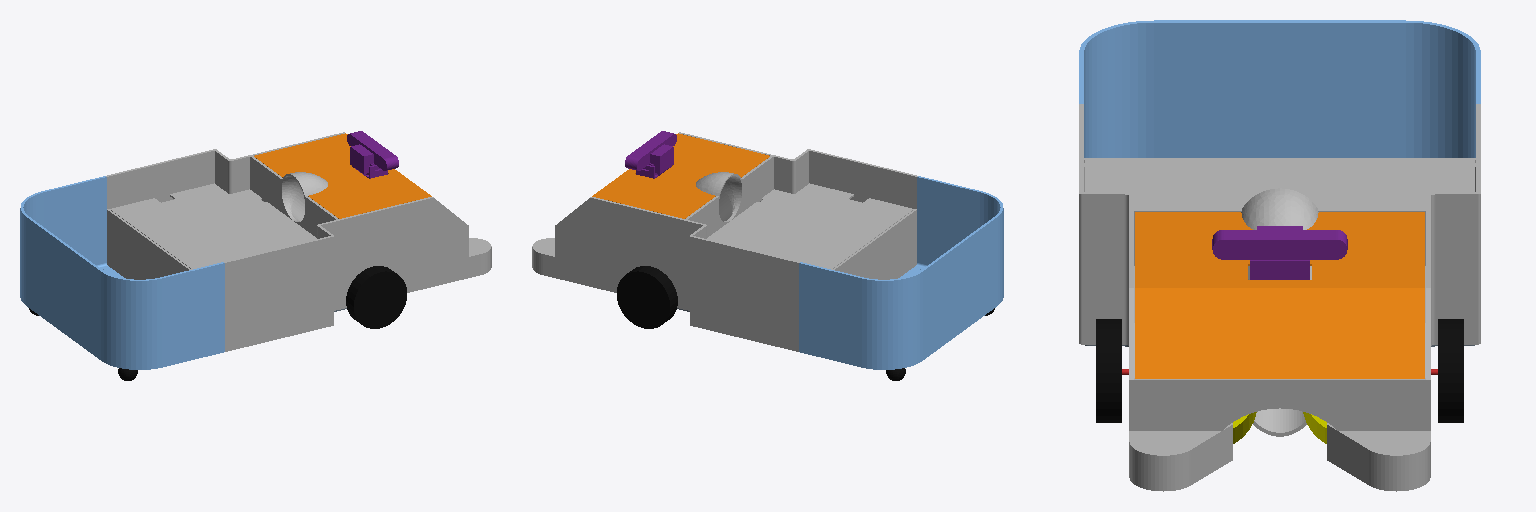
URDF robot description (tennis_bot):
<?xml version="1.0"?>
<!-- 新車體 v2 (A 同學 2026-10-25 CAD)。這個檔案由 experiments/cad_v2_to_urdf.py 從
     experiments/tennis_bot_v2_template.urdf 產生，不要直接改 tennis_bot_v2.urdf。
     base_link = 兩驅動輪軸中點正下方的地面，x 前 / y 左 / z 上。 -->
<robot name="tennis_bot">

  <link name="base_link"/>

  <joint name="base_to_chassis" type="fixed">
    <parent link="base_link"/>
    <child link="chassis"/>
    <origin xyz="0 0 0" rpy="0 0 0"/>
  </joint>

  <!-- 車體：CAD 每個零件一個網格 (公尺、base_link 座標)。碰撞只給球可能碰到的零件；質量性質是全部零件合計 -->
  <link name="chassis">
    <visual name="trunk_v2_01">
      <geometry><mesh filename="package://tennis_bot/urdf/meshes/v2/trunk_v2_01.stl"/></geometry>
      <material name="m_trunk_v2_01"><color rgba="0.55 0.75 0.95 1"/></material>
    </visual>
    <visual name="trunk_v2_02">
      <geometry><mesh filename="package://tennis_bot/urdf/meshes/v2/trunk_v2_02.stl"/></geometry>
      <material name="m_trunk_v2_02"><color rgba="0.55 0.75 0.95 1"/></material>
    </visual>
    <visual name="trunk_v2_03">
      <geometry><mesh filename="package://tennis_bot/urdf/meshes/v2/trunk_v2_03.stl"/></geometry>
      <material name="m_trunk_v2_03"><color rgba="0.75 0.75 0.75 1"/></material>
    </visual>
    <visual name="trunk_v2_05">
      <geometry><mesh filename="package://tennis_bot/urdf/meshes/v2/trunk_v2_05.stl"/></geometry>
      <material name="m_trunk_v2_05"><color rgba="0.75 0.75 0.75 1"/></material>
    </visual>
    <visual name="trunk_v2_part6">
      <geometry><mesh filename="package://tennis_bot/urdf/meshes/v2/trunk_v2_part6.stl"/></geometry>
      <material name="m_trunk_v2_part6"><color rgba="0.75 0.75 0.75 1"/></material>
    </visual>
    <visual name="trunk_v2_part7">
      <geometry><mesh filename="package://tennis_bot/urdf/meshes/v2/trunk_v2_part7.stl"/></geometry>
      <material name="m_trunk_v2_part7"><color rgba="0.75 0.75 0.75 1"/></material>
    </visual>
    <visual name="trunk_v2_part8">
      <geometry><mesh filename="package://tennis_bot/urdf/meshes/v2/trunk_v2_part8.stl"/></geometry>
      <material name="m_trunk_v2_part8"><color rgba="0.75 0.75 0.75 1"/></material>
    </visual>
    <visual name="trunk_v2_part9">
      <geometry><mesh filename="package://tennis_bot/urdf/meshes/v2/trunk_v2_part9.stl"/></geometry>
      <material name="m_trunk_v2_part9"><color rgba="0.75 0.75 0.75 1"/></material>
    </visual>
    <visual name="trunk_v2_battery">
      <geometry><mesh filename="package://tennis_bot/urdf/meshes/v2/trunk_v2_battery.stl"/></geometry>
      <material name="m_trunk_v2_battery"><color rgba="0.2 0.6 0.2 1"/></material>
    </visual>
    <visual name="trunk_v2_camera">
      <geometry><mesh filename="package://tennis_bot/urdf/meshes/v2/trunk_v2_camera.stl"/></geometry>
      <material name="m_trunk_v2_camera"><color rgba="0.5 0.2 0.6 1"/></material>
    </visual>
    <visual name="trunk_v2_motor1">
      <geometry><mesh filename="package://tennis_bot/urdf/meshes/v2/trunk_v2_motor1.stl"/></geometry>
      <material name="m_trunk_v2_motor1"><color rgba="0.8 0.2 0.2 1"/></material>
    </visual>
    <visual name="trunk_v2_motor2">
      <geometry><mesh filename="package://tennis_bot/urdf/meshes/v2/trunk_v2_motor2.stl"/></geometry>
      <material name="m_trunk_v2_motor2"><color rgba="0.8 0.2 0.2 1"/></material>
    </visual>
    <visual name="trunk_v2_jetsonnano">
      <geometry><mesh filename="package://tennis_bot/urdf/meshes/v2/trunk_v2_jetsonnano.stl"/></geometry>
      <material name="m_trunk_v2_jetsonnano"><color rgba="0.2 0.6 0.2 1"/></material>
    </visual>
    <visual name="trunk_v2_STM32">
      <geometry><mesh filename="package://tennis_bot/urdf/meshes/v2/trunk_v2_STM32.stl"/></geometry>
      <material name="m_trunk_v2_STM32"><color rgba="0.2 0.6 0.2 1"/></material>
    </visual>
    <visual name="trunk_v2_motor3">
      <geometry><mesh filename="package://tennis_bot/urdf/meshes/v2/trunk_v2_motor3.stl"/></geometry>
      <material name="m_trunk_v2_motor3"><color rgba="0.8 0.2 0.2 1"/></material>
    </visual>
    <visual name="trunk_v2_motor4">
      <geometry><mesh filename="package://tennis_bot/urdf/meshes/v2/trunk_v2_motor4.stl"/></geometry>
      <material name="m_trunk_v2_motor4"><color rgba="0.8 0.2 0.2 1"/></material>
    </visual>
    <visual name="trunk_v2_camerastand">
      <geometry><mesh filename="package://tennis_bot/urdf/meshes/v2/trunk_v2_camerastand.stl"/></geometry>
      <material name="m_trunk_v2_camerastand"><color rgba="0.5 0.2 0.6 1"/></material>
    </visual>
    <visual name="trunk_v2_part10">
      <geometry><mesh filename="package://tennis_bot/urdf/meshes/v2/trunk_v2_part10.stl"/></geometry>
      <material name="m_trunk_v2_part10"><color rgba="0.75 0.75 0.75 1"/></material>
    </visual>
    <visual name="trunk_v2_part11">
      <geometry><mesh filename="package://tennis_bot/urdf/meshes/v2/trunk_v2_part11.stl"/></geometry>
      <material name="m_trunk_v2_part11"><color rgba="0.75 0.75 0.75 1"/></material>
    </visual>
    <visual name="trunk_v2_sheetmetal">
      <geometry><mesh filename="package://tennis_bot/urdf/meshes/v2/trunk_v2_sheetmetal.stl"/></geometry>
      <material name="m_trunk_v2_sheetmetal"><color rgba="0.45 0.5 0.55 1"/></material>
    </visual>
    <visual name="trunk_v2_part12">
      <geometry><mesh filename="package://tennis_bot/urdf/meshes/v2/trunk_v2_part12.stl"/></geometry>
      <material name="m_trunk_v2_part12"><color rgba="0.95 0.55 0.1 1"/></material>
    </visual>
    <collision name="trunk_v2_01_c">
      <geometry><mesh filename="package://tennis_bot/urdf/meshes/v2/trunk_v2_01.stl"/></geometry>
    </collision>
    <collision name="trunk_v2_02_c">
      <geometry><mesh filename="package://tennis_bot/urdf/meshes/v2/trunk_v2_02.stl"/></geometry>
    </collision>
    <collision name="trunk_v2_03_c">
      <geometry><mesh filename="package://tennis_bot/urdf/meshes/v2/trunk_v2_03.stl"/></geometry>
    </collision>
    <collision name="trunk_v2_05_c">
      <geometry><mesh filename="package://tennis_bot/urdf/meshes/v2/trunk_v2_05.stl"/></geometry>
    </collision>
    <collision name="trunk_v2_part6_c">
      <geometry><mesh filename="package://tennis_bot/urdf/meshes/v2/trunk_v2_part6.stl"/></geometry>
    </collision>
    <collision name="trunk_v2_part7_c">
      <geometry><mesh filename="package://tennis_bot/urdf/meshes/v2/trunk_v2_part7.stl"/></geometry>
    </collision>
    <collision name="trunk_v2_part8_c">
      <geometry><mesh filename="package://tennis_bot/urdf/meshes/v2/trunk_v2_part8.stl"/></geometry>
    </collision>
    <collision name="trunk_v2_part9_c">
      <geometry><mesh filename="package://tennis_bot/urdf/meshes/v2/trunk_v2_part9.stl"/></geometry>
    </collision>
    <collision name="trunk_v2_camera_c">
      <geometry><mesh filename="package://tennis_bot/urdf/meshes/v2/trunk_v2_camera.stl"/></geometry>
    </collision>
    <collision name="trunk_v2_motor3_c">
      <geometry><mesh filename="package://tennis_bot/urdf/meshes/v2/trunk_v2_motor3.stl"/></geometry>
    </collision>
    <collision name="trunk_v2_motor4_c">
      <geometry><mesh filename="package://tennis_bot/urdf/meshes/v2/trunk_v2_motor4.stl"/></geometry>
    </collision>
    <collision name="trunk_v2_camerastand_c">
      <geometry><mesh filename="package://tennis_bot/urdf/meshes/v2/trunk_v2_camerastand.stl"/></geometry>
    </collision>
    <collision name="trunk_v2_part10_c">
      <geometry><mesh filename="package://tennis_bot/urdf/meshes/v2/trunk_v2_part10.stl"/></geometry>
    </collision>
    <collision name="trunk_v2_part11_c">
      <geometry><mesh filename="package://tennis_bot/urdf/meshes/v2/trunk_v2_part11.stl"/></geometry>
    </collision>
    <collision name="trunk_v2_sheetmetal_c">
      <geometry><mesh filename="package://tennis_bot/urdf/meshes/v2/trunk_v2_sheetmetal.stl"/></geometry>
    </collision>
    <collision name="trunk_v2_part12_c">
      <geometry><mesh filename="package://tennis_bot/urdf/meshes/v2/trunk_v2_part12.stl"/></geometry>
    </collision>
    <inertial>
      <origin xyz="-0.16125 -0.00182 0.07177" rpy="0 0 0"/>
      <mass value="7.5045"/>
      <inertia ixx="0.109317" ixy="-0.000638" ixz="-0.021419" iyy="0.294207" iyz="0.000217" izz="0.367185"/>
    </inertial>
  </link>

  <link name="left_drive_wheel">
    <visual><geometry><cylinder radius="0.052" length="0.026"/></geometry>
      <material name="tyre"><color rgba="0.1 0.1 0.1 1"/></material></visual>
    <collision><geometry><cylinder radius="0.052" length="0.026"/></geometry></collision>
    <inertial>
      <origin xyz="0.00000 0.00000 0.00000" rpy="0 0 0"/>
      <mass value="0.2000"/>
      <inertia ixx="0.000146" ixy="0.000000" ixz="0.000000" iyy="0.000146" iyz="0.000000" izz="0.000270"/>
    </inertial>
  </link>
  <joint name="left_wheel_joint" type="continuous">
    <parent link="chassis"/><child link="left_drive_wheel"/>
    <origin xyz="0 0.1700 0.052" rpy="-1.5708 0 0"/>
    <axis xyz="0 0 1"/>
  </joint>
  <gazebo reference="left_drive_wheel"><mu1>200.0</mu1><mu2>200.0</mu2><material>Gazebo/Black</material></gazebo>

  <link name="right_drive_wheel">
    <visual><geometry><cylinder radius="0.052" length="0.026"/></geometry>
      <material name="tyre"><color rgba="0.1 0.1 0.1 1"/></material></visual>
    <collision><geometry><cylinder radius="0.052" length="0.026"/></geometry></collision>
    <inertial>
      <origin xyz="0.00000 0.00000 0.00000" rpy="0 0 0"/>
      <mass value="0.2000"/>
      <inertia ixx="0.000146" ixy="0.000000" ixz="0.000000" iyy="0.000146" iyz="0.000000" izz="0.000270"/>
    </inertial>
  </link>
  <joint name="right_wheel_joint" type="continuous">
    <parent link="chassis"/><child link="right_drive_wheel"/>
    <origin xyz="0 -0.1700 0.052" rpy="-1.5708 0 0"/>
    <axis xyz="0 0 1"/>
  </joint>
  <gazebo reference="right_drive_wheel"><mu1>200.0</mu1><mu2>200.0</mu2><material>Gazebo/Black</material></gazebo>

  <link name="caster_0">
    <visual><geometry><sphere radius="0.0166"/></geometry><material name="caster"><color rgba="0.1 0.1 0.1 1"/></material></visual>
    <collision><geometry><sphere radius="0.0166"/></geometry>
      <surface><friction><ode><mu>0.0</mu><mu2>0.0</mu2></ode></friction></surface></collision>
    <inertial>
      <origin xyz="0.00000 0.00000 0.00000" rpy="0 0 0"/>
      <mass value="0.0300"/>
      <inertia ixx="0.000002" ixy="0.000000" ixz="0.000000" iyy="0.000002" iyz="0.000000" izz="0.000002"/>
    </inertial>
  </link>
  <joint name="caster_0_joint" type="fixed">
    <parent link="chassis"/><child link="caster_0"/>
    <origin xyz="-0.47 0.15 0.0166" rpy="0 0 0"/>
  </joint>
  <!-- 萬向輪 = 無摩擦球 (會自己轉向的輪子阻力很小)。摩擦要寫在 gazebo reference：URDF <collision> 裡的
       <surface> Gazebo 不會讀 (舊車 simple_bot.urdf 也是這樣寫，實際摩擦是預設值)。新車重心在輪軸後 16 cm，
       萬向輪撐 ~1/3 重量，有摩擦的話原地轉不動 (2026-10-26 實測：指令 86° 只轉 0°)。 -->
  <gazebo reference="caster_0"><mu1>0.0</mu1><mu2>0.0</mu2></gazebo>

  <link name="caster_1">
    <visual><geometry><sphere radius="0.0166"/></geometry><material name="caster"><color rgba="0.1 0.1 0.1 1"/></material></visual>
    <collision><geometry><sphere radius="0.0166"/></geometry>
      <surface><friction><ode><mu>0.0</mu><mu2>0.0</mu2></ode></friction></surface></collision>
    <inertial>
      <origin xyz="0.00000 0.00000 0.00000" rpy="0 0 0"/>
      <mass value="0.0300"/>
      <inertia ixx="0.000002" ixy="0.000000" ixz="0.000000" iyy="0.000002" iyz="0.000000" izz="0.000002"/>
    </inertial>
  </link>
  <joint name="caster_1_joint" type="fixed">
    <parent link="chassis"/><child link="caster_1"/>
    <origin xyz="-0.47 -0.15 0.0166" rpy="0 0 0"/>
  </joint>
  <!-- 萬向輪 = 無摩擦球 (會自己轉向的輪子阻力很小)。摩擦要寫在 gazebo reference：URDF <collision> 裡的
       <surface> Gazebo 不會讀 (舊車 simple_bot.urdf 也是這樣寫，實際摩擦是預設值)。新車重心在輪軸後 16 cm，
       萬向輪撐 ~1/3 重量，有摩擦的話原地轉不動 (2026-10-26 實測：指令 86° 只轉 0°)。 -->
  <gazebo reference="caster_1"><mu1>0.0</mu1><mu2>0.0</mu2></gazebo>

  <!-- left 滾輪：CAD motor4 出軸，軸往前上 48°；直徑/寬度/海綿同舊車 -->
  <link name="left_roller">
    <visual><geometry><cylinder radius="0.05" length="0.04"/></geometry>
      <material name="roller_y"><color rgba="0.8 0.8 0 1"/></material></visual>
    <visual><origin xyz="0.045 0 0" rpy="0 0 0"/><geometry><box size="0.01 0.01 0.01"/></geometry>
      <material name="roller_mark"><color rgba="1 0 0 1"/></material></visual>
    <collision><geometry><cylinder radius="0.05" length="0.04"/></geometry></collision>
    <inertial>
      <origin xyz="0.00000 0.00000 0.00000" rpy="0 0 0"/>
      <mass value="0.1000"/>
      <inertia ixx="0.000076" ixy="0.000000" ixz="0.000000" iyy="0.000076" iyz="0.000000" izz="0.000125"/>
    </inertial>
  </link>
  <joint name="left_roller_joint" type="continuous">
    <parent link="chassis"/><child link="left_roller"/>
    <origin xyz="0.1027 0.0725 0.0710" rpy="0 0.7302 0"/>
    <axis xyz="0 0 1"/>
  </joint>
  <gazebo reference="left_roller">
    <mu1>1.5</mu1><mu2>1.5</mu2><kp>150.0</kp><kd>4.2</kd><min_depth>0.001</min_depth><max_vel>10</max_vel>
  </gazebo>

  <!-- right 滾輪：CAD motor3 出軸，軸往前上 48°；直徑/寬度/海綿同舊車 -->
  <link name="right_roller">
    <visual><geometry><cylinder radius="0.05" length="0.04"/></geometry>
      <material name="roller_y"><color rgba="0.8 0.8 0 1"/></material></visual>
    <visual><origin xyz="0.045 0 0" rpy="0 0 0"/><geometry><box size="0.01 0.01 0.01"/></geometry>
      <material name="roller_mark"><color rgba="1 0 0 1"/></material></visual>
    <collision><geometry><cylinder radius="0.05" length="0.04"/></geometry></collision>
    <inertial>
      <origin xyz="0.00000 0.00000 0.00000" rpy="0 0 0"/>
      <mass value="0.1000"/>
      <inertia ixx="0.000076" ixy="0.000000" ixz="0.000000" iyy="0.000076" iyz="0.000000" izz="0.000125"/>
    </inertial>
  </link>
  <joint name="right_roller_joint" type="continuous">
    <parent link="chassis"/><child link="right_roller"/>
    <origin xyz="0.1027 -0.0726 0.0710" rpy="0 0.7302 0"/>
    <axis xyz="0 0 1"/>
  </joint>
  <gazebo reference="right_roller">
    <mu1>1.5</mu1><mu2>1.5</mu2><kp>150.0</kp><kd>4.2</kd><min_depth>0.001</min_depth><max_vel>10</max_vel>
  </gazebo>

  <gazebo>
    <plugin name="roller_drive" filename="libgazebo_ros_diff_drive.so">
      <ros>
        <namespace>/</namespace>
        <remapping>cmd_vel:=roller_cmd</remapping>
        <remapping>odom:=roller_odom_dump</remapping>
      </ros>
      <left_joint>left_roller_joint</left_joint>
      <right_joint>right_roller_joint</right_joint>
      <!-- 跟舊車同一組換算 (roller_cmd angular.z = W -> 每顆滾輪 W*0.07/0.045 rad/s) -->
      <wheel_separation>0.14</wheel_separation>
      <wheel_diameter>0.09</wheel_diameter>
      <max_wheel_torque>50.0</max_wheel_torque>
      <max_wheel_acceleration>10.0</max_wheel_acceleration>
      <publish_odom>false</publish_odom>
      <publish_odom_tf>false</publish_odom_tf>
      <publish_wheel_tf>false</publish_wheel_tf>
    </plugin>
  </gazebo>
  <gazebo>
    <plugin name="joint_state_publisher" filename="libgazebo_ros_joint_state_publisher.so">
      <ros>
        <namespace>/</namespace>
      </ros>
      <update_rate>100</update_rate>
      <joint_name>left_wheel_joint</joint_name>
      <joint_name>right_wheel_joint</joint_name>
      <joint_name>left_roller_joint</joint_name>
      <joint_name>right_roller_joint</joint_name>
    </plugin>
  </gazebo>

  <gazebo>
    <plugin name="diff_drive" filename="libgazebo_ros_diff_drive.so">
      <ros>
        <namespace>/</namespace>
        <remapping>cmd_vel:=cmd_vel</remapping>
        <remapping>odom:=odom</remapping>
      </ros>
      <left_joint>left_wheel_joint</left_joint>
      <right_joint>right_wheel_joint</right_joint>
      <!-- 新車輪距 (CAD 輪子缺口估計，待量)；底盤加減速由 STM32 PID + 馬達模型決定 -->
      <wheel_separation>0.3400</wheel_separation>
      <wheel_diameter>0.1040</wheel_diameter>
      <max_wheel_torque>20.0</max_wheel_torque>
      <max_wheel_acceleration>0.0</max_wheel_acceleration>
      <publish_odom>true</publish_odom>
      <publish_odom_tf>true</publish_odom_tf>
      <publish_wheel_tf>true</publish_wheel_tf>
      <odometry_frame>odom</odometry_frame>
      <robot_base_frame>base_link</robot_base_frame>
    </plugin>
  </gazebo>

  <link name="camera_link">
    <inertial>
      <mass value="0.001"/>
      <inertia ixx="0.000001" ixy="0.0" ixz="0.0" iyy="0.000001" iyz="0.0" izz="0.000001"/>
    </inertial>
  </link>
  <!-- 相機：CAD 相機方塊前面中心；俯角 21.3° 照實測擬合 (CAD 沒畫角度)、左偏 3.96° 同舊車 (D 程式 image_cx=283) -->
  <joint name="camera_joint" type="fixed">
    <parent link="chassis"/>
    <child link="camera_link"/>
    <origin xyz="0.1030 0.0000 0.2222" rpy="0 0.3717551306747922 0.0691"/>
  </joint>

  <gazebo reference="camera_link">
    <sensor type="camera" name="tennis_camera">
      <update_rate>30.0</update_rate>
      <camera name="head">
        <horizontal_fov>1.1626</horizontal_fov>
        <image>
          <width>640</width>
          <height>480</height>
          <format>R8G8B8</format>
        </image>
        <clip>
          <near>0.02</near>
          <far>300</far>
        </clip>
      </camera>
      <plugin name="camera_controller" filename="libgazebo_ros_camera.so">
        <ros>
          <namespace>/</namespace>
          <remapping>~/image_raw:=tennis_camera/image_raw</remapping>
        </ros>
        <camera_name>tennis_camera</camera_name>
        <frame_name>camera_link</frame_name>
      </plugin>
    </sensor>
  </gazebo>

  <!-- 陀螺儀：同舊車 (BNO08X 等級的雜訊與零偏)，裝在輪軸中點 (實際位置待定) -->
  <link name="imu_link">
    <inertial>
      <mass value="0.001"/>
      <inertia ixx="0.00001" ixy="0.0" ixz="0.0" iyy="0.00001" iyz="0.0" izz="0.00001"/>
    </inertial>
  </link>
  <joint name="imu_joint" type="fixed">
    <parent link="chassis"/>
    <child link="imu_link"/>
    <origin xyz="0 0 0.05" rpy="0 0 0"/>
  </joint>
  <gazebo reference="imu_link">
    <sensor name="imu_sensor" type="imu">
      <always_on>true</always_on>
      <update_rate>1000</update_rate>
      <imu>
        <angular_velocity>
          <x><noise type="gaussian"><mean>0.0</mean><stddev>0.0077</stddev><bias_mean>0.000145</bias_mean><bias_stddev>0.00005</bias_stddev></noise></x>
          <y><noise type="gaussian"><mean>0.0</mean><stddev>0.0077</stddev><bias_mean>0.000145</bias_mean><bias_stddev>0.00005</bias_stddev></noise></y>
          <z><noise type="gaussian"><mean>0.0</mean><stddev>0.0077</stddev><bias_mean>0.000145</bias_mean><bias_stddev>0.00005</bias_stddev></noise></z>
        </angular_velocity>
      </imu>
      <plugin name="imu_plugin" filename="libgazebo_ros_imu_sensor.so">
        <ros>
          <namespace>/</namespace>
          <remapping>~/out:=imu</remapping>
        </ros>
        <initial_orientation_as_reference>false</initial_orientation_as_reference>
      </plugin>
    </sensor>
  </gazebo>

</robot>

--- Render facts (derived) ---
The picture shows the robot from 3 angles, left to right: view 1: azimuth 30°, elevation 25°; view 2: azimuth 150°, elevation 25°; view 3: azimuth 270°, elevation 25°; orthographic projection.
Model tennis_bot with 10 links and 9 joints (4 continuous, 5 fixed), rooted at base_link, posed every joint at zero.
Links seen in each view (by area): view 1: chassis, right_drive_wheel; view 2: chassis, left_drive_wheel; view 3: chassis, left_drive_wheel, right_drive_wheel.
Boxes of the visible links, bbox=[...] form: chassis: bbox=[20, 131, 491, 369]; right_drive_wheel: bbox=[346, 266, 406, 328]; chassis: bbox=[532, 131, 1003, 369]; left_drive_wheel: bbox=[617, 266, 677, 328]; chassis: bbox=[1079, 20, 1480, 491]; left_drive_wheel: bbox=[1438, 319, 1463, 422]; right_drive_wheel: bbox=[1096, 319, 1121, 422].
Size in the robot's own frame: 0.7561 by 0.4 by 0.2442 metres.
21 mesh visuals loaded from 21 distinct referenced files (21 binary STL).
